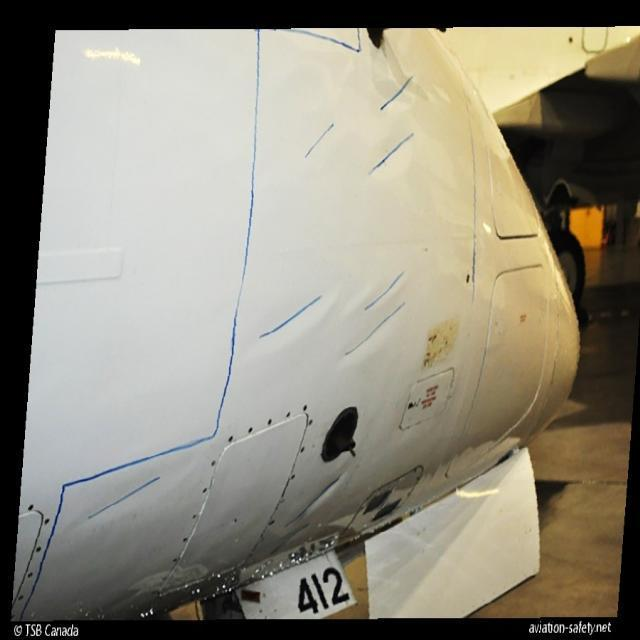dent: (356, 130, 441, 199)
